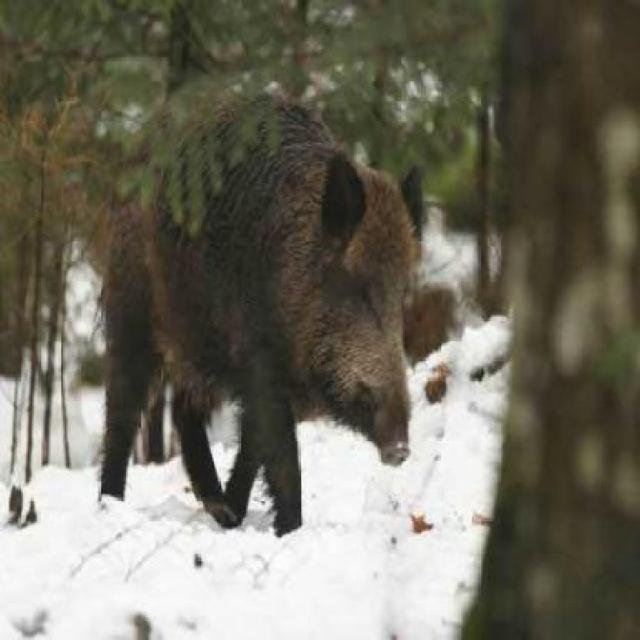pig: (105, 57, 433, 571)
